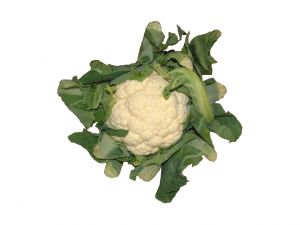cauliflower: (57, 20, 245, 205)
